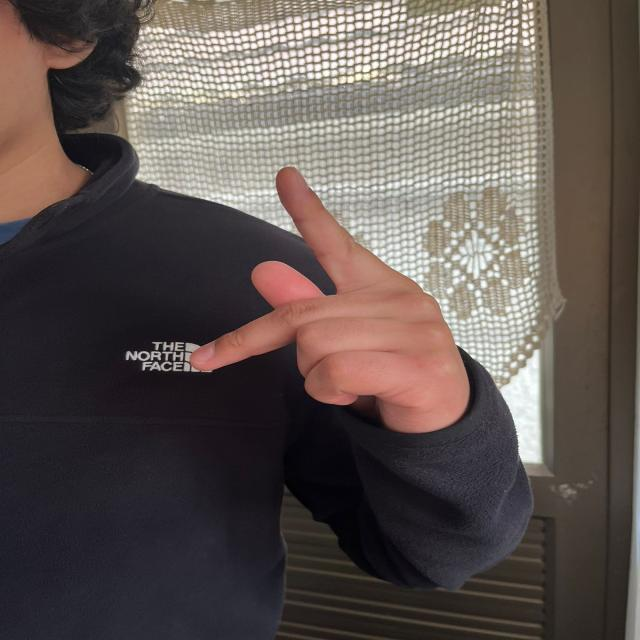K: (185, 160, 475, 443)
